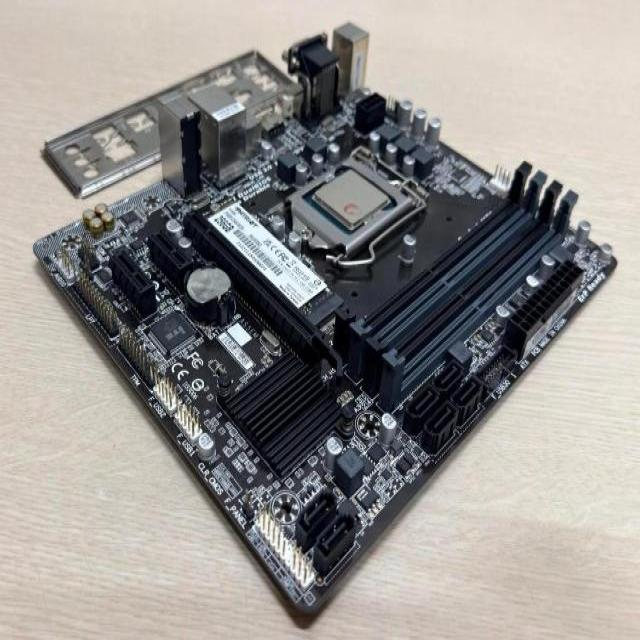CPU: (310, 168, 392, 234)
